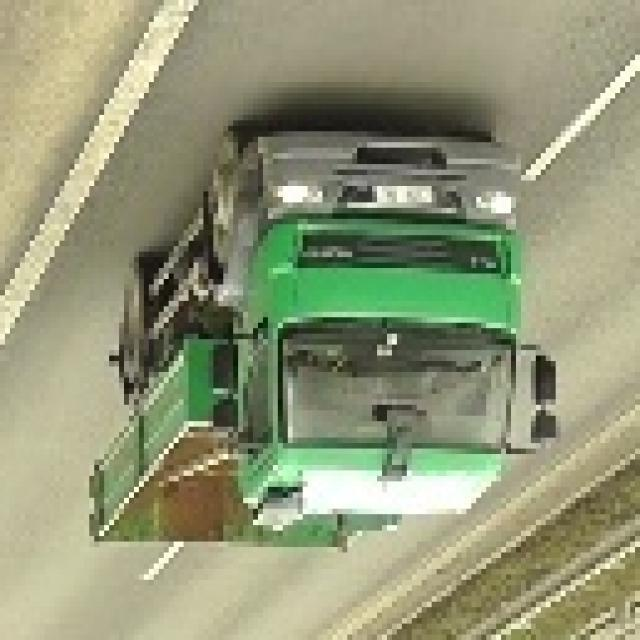truck: (94, 126, 556, 558)
